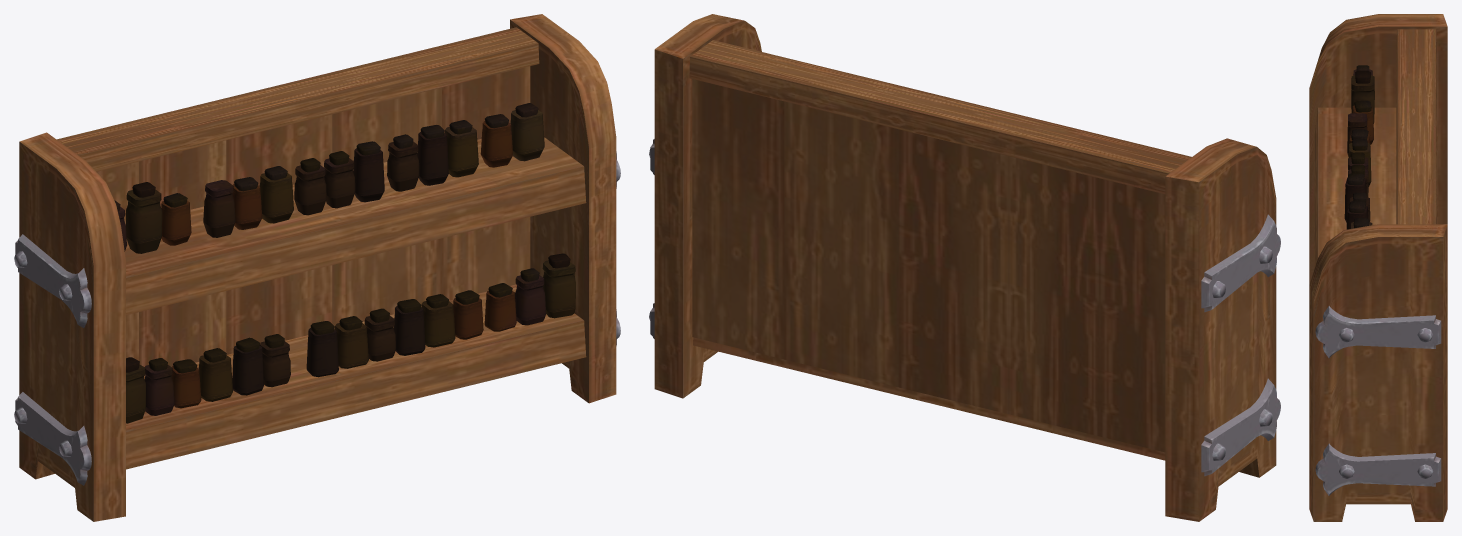
File: shelf_bottles.glb
3 renders of one model, left to right at view 1: azimuth 30°, elevation 25°; view 2: azimuth 150°, elevation 25°; view 3: azimuth 270°, elevation 25°, orthographic. The views are drawn at different scales.
Parts seen in each view (by area): view 1: Shelf_Small_Bottles; view 2: Shelf_Small_Bottles; view 3: Shelf_Small_Bottles.
Part boxes in pixels (x1=…): Shelf_Small_Bottles: x1=14, y1=14, x2=620, y2=521; Shelf_Small_Bottles: x1=649, y1=14, x2=1280, y2=521; Shelf_Small_Bottles: x1=1309, y1=14, x2=1447, y2=521.
Bounding box in the file's own units: 1.14 × 0.6474 × 0.2846.
3 materials, 3 textured.
